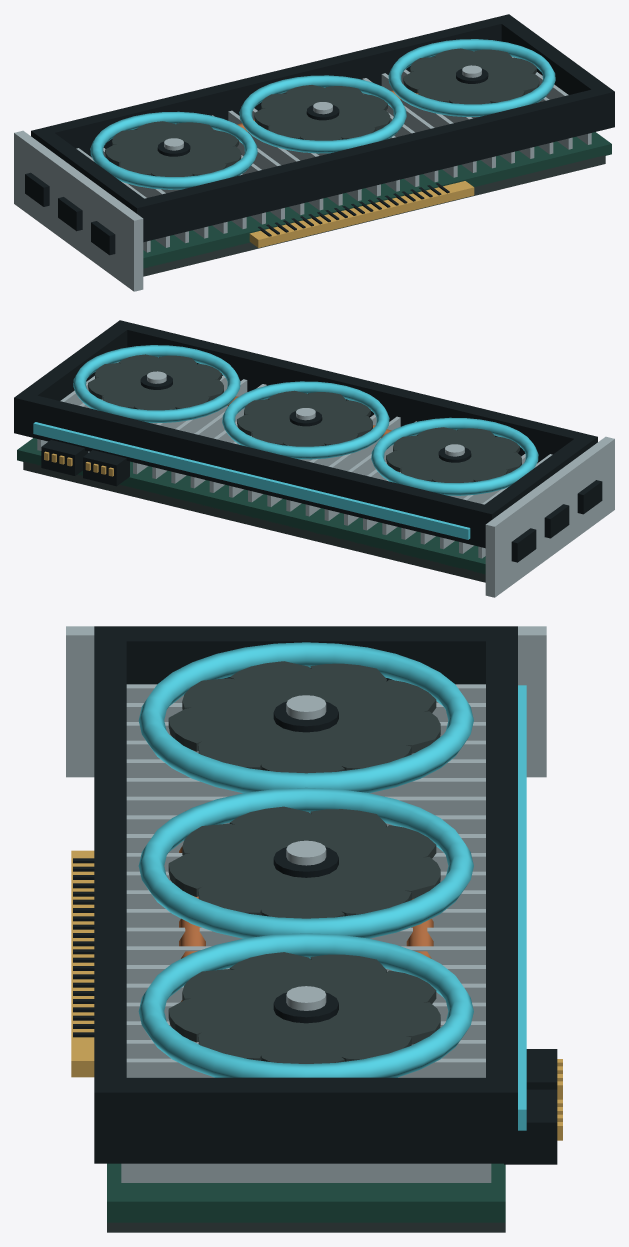
The model's file is gpu-triple.glb.
The picture shows the model from 3 angles, top to bottom: view 1: azimuth 30°, elevation 25°; view 2: azimuth 150°, elevation 25°; view 3: azimuth 270°, elevation 25°; orthographic projection. The views are drawn at different scales.
Parts seen in each view (by area): view 1: Rubber and ABS, Anodized graphite (×3), Brushed aluminium, Coolant blue, gpu-triple, Contacts, fan-rotor (×3); view 2: Rubber and ABS, Coolant blue, Anodized graphite (×3), Brushed aluminium, gpu-triple, fan-rotor (×3), Contacts; view 3: Rubber and ABS, Anodized graphite (×3), Coolant blue, Brushed aluminium, gpu-triple, fan-rotor (×3), Contacts, Copper heat pipes.
Part boxes in pixels (bbox=[...]): Rubber and ABS: bbox=[25, 14, 614, 255]; Anodized graphite (×3): bbox=[105, 48, 539, 176]; Brushed aluminium: bbox=[14, 57, 591, 291]; Coolant blue: bbox=[90, 39, 555, 189]; gpu-triple: bbox=[143, 132, 611, 276]; Contacts: bbox=[249, 181, 474, 247]; fan-rotor (×3): bbox=[157, 65, 488, 156]; Rubber and ABS: bbox=[14, 320, 602, 562]; Coolant blue: bbox=[33, 345, 538, 539]; Anodized graphite (×3): bbox=[88, 354, 521, 482]; Brushed aluminium: bbox=[37, 362, 614, 597]; gpu-triple: bbox=[17, 438, 485, 582]; fan-rotor (×3): bbox=[140, 371, 471, 462]; Contacts: bbox=[44, 451, 113, 476]; Rubber and ABS: bbox=[73, 626, 557, 1164]; Anodized graphite (×3): bbox=[168, 661, 440, 1063]; Coolant blue: bbox=[138, 642, 526, 1130]; Brushed aluminium: bbox=[66, 626, 546, 1182]; gpu-triple: bbox=[107, 1163, 505, 1232]; fan-rotor (×3): bbox=[273, 695, 338, 1023]; Contacts: bbox=[71, 850, 562, 1140]; Copper heat pipes: bbox=[179, 810, 433, 1001].
Bounding box in the file's own units: 3.2 × 0.5085 × 1.4.
